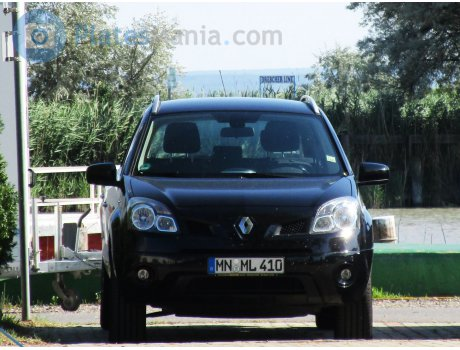License Plates: (217, 255, 277, 271)
